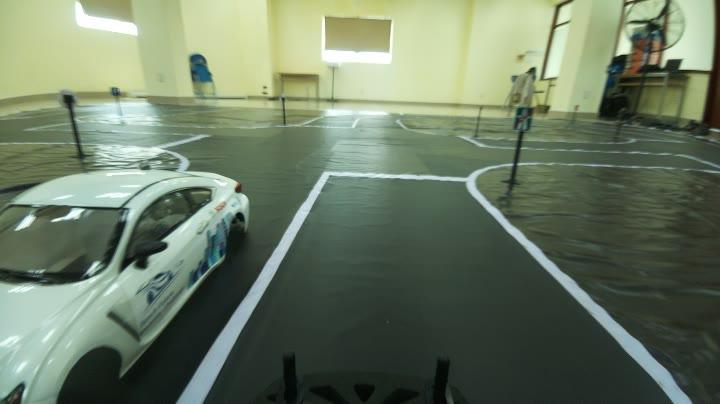car: (1, 159, 255, 404)
highway_exit: (511, 88, 537, 137)
